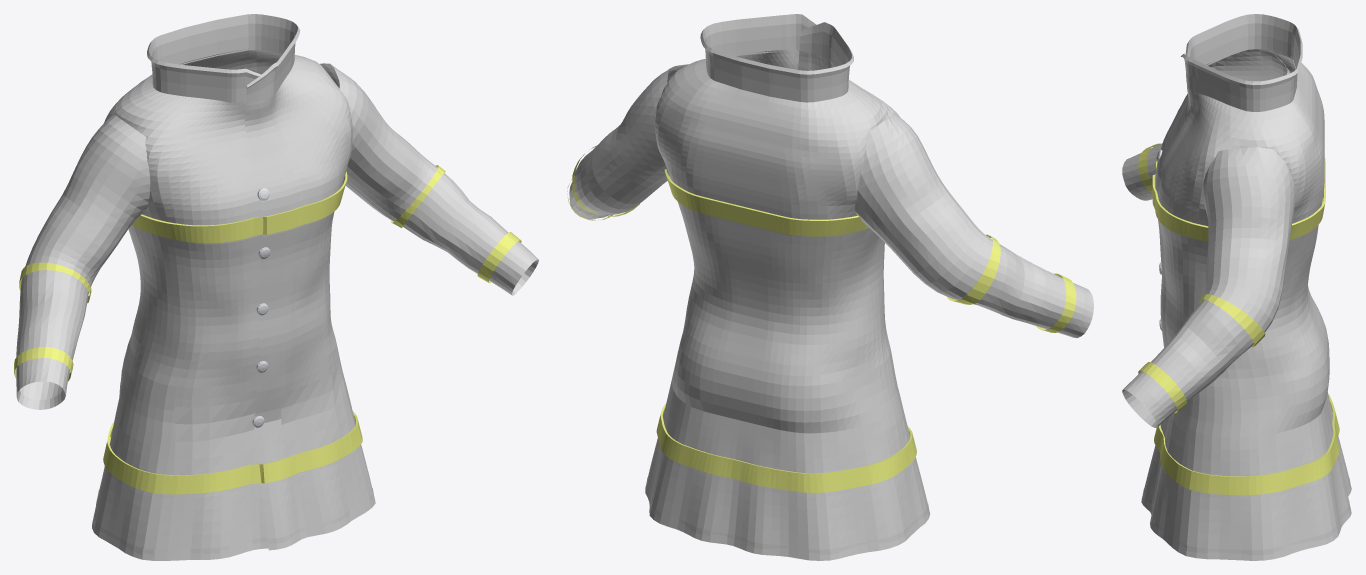
Rendered from ewb_turnout.glb.
The picture shows the model from 3 angles, left to right: view 1: azimuth 30°, elevation 25°; view 2: azimuth 150°, elevation 25°; view 3: azimuth 270°, elevation 25°; orthographic projection. The views are drawn at different scales.
Parts seen in each view (by area): view 1: ewb_turnout; view 2: ewb_turnout; view 3: ewb_turnout.
Part boxes in pixels (<box>): ewb_turnout: <box>14,14,538,560</box>; ewb_turnout: <box>567,14,1093,560</box>; ewb_turnout: <box>1122,14,1351,560</box>.
Bounding box in the file's own units: 1.13 × 0.9684 × 0.4442.
